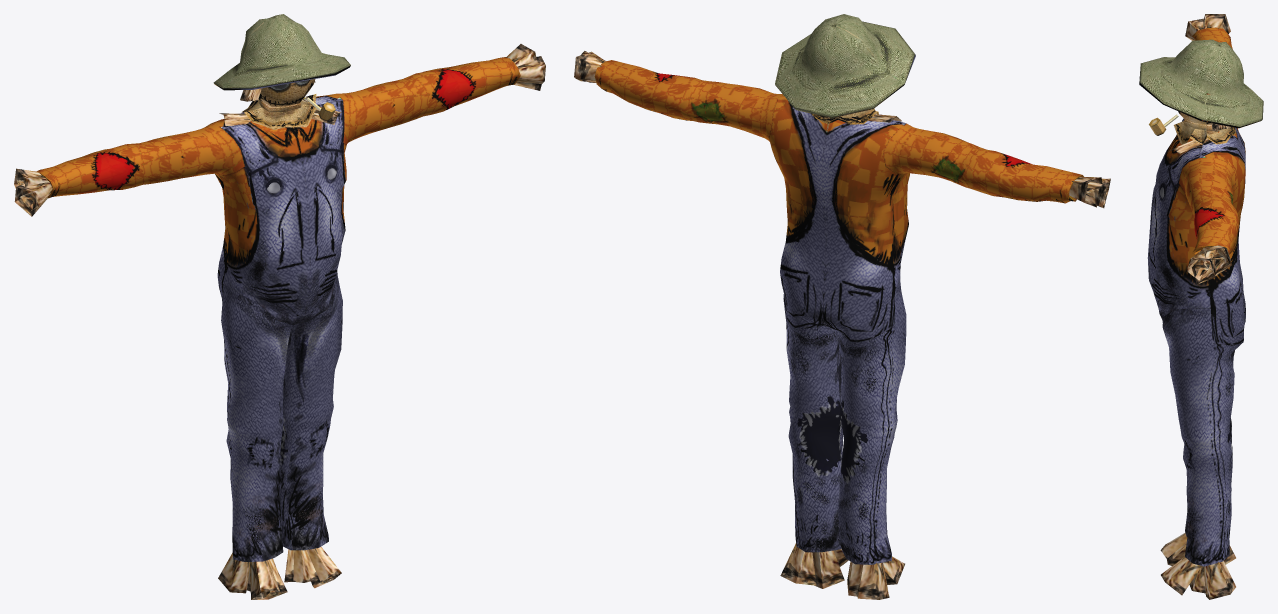
The model's file is Scarecrow.fbx.
3 renders of one model, left to right at view 1: azimuth 30°, elevation 25°; view 2: azimuth 150°, elevation 25°; view 3: azimuth 270°, elevation 25°, orthographic. The views are drawn at different scales.
Visible parts, largest first — view 1: Scarecrow; view 2: Scarecrow; view 3: Scarecrow.
Boxes of the visible parts, <box> form: Scarecrow: <box>14,14,545,599</box>; Scarecrow: <box>574,14,1110,599</box>; Scarecrow: <box>1139,14,1263,599</box>.
Size of the model in its own units: 19.49 by 20.04 by 4.19.
1 material, 1 textured.
